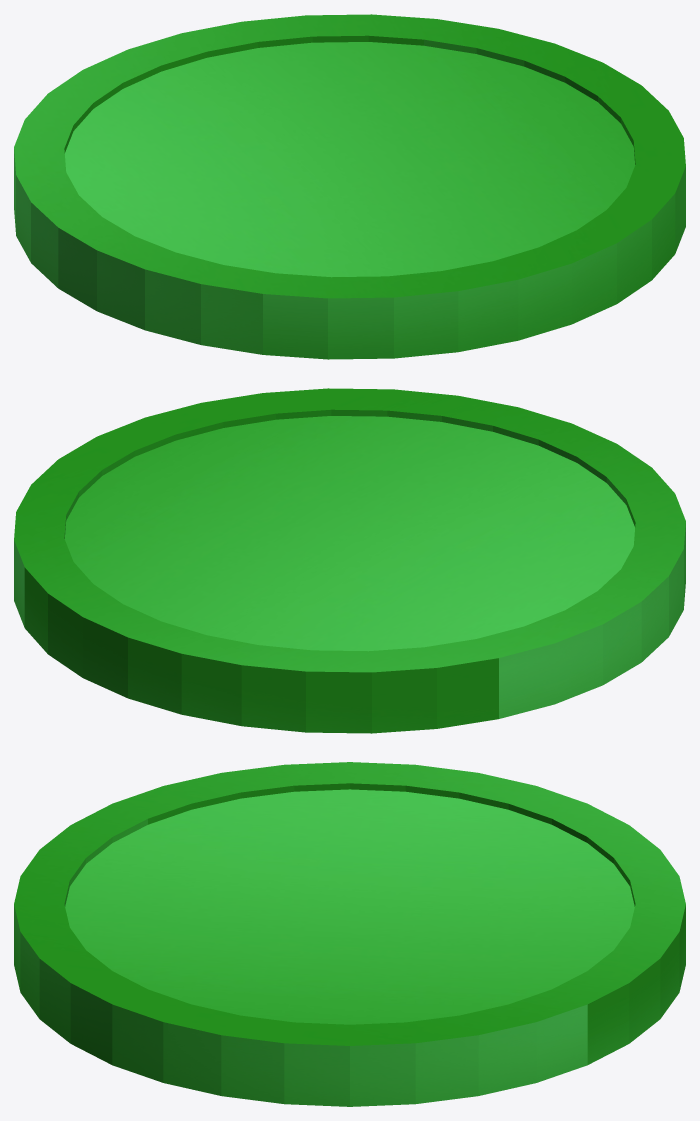
The model's file is round_puck.obj.
3 views of the same model, one above another, from view 1: azimuth 30°, elevation 25°; view 2: azimuth 150°, elevation 25°; view 3: azimuth 270°, elevation 25° (orthographic).
Parts seen in each view (by area): view 1: Cylinder.001; view 2: Cylinder.001; view 3: Cylinder.001.
Boxes of the visible parts, bbox=[...] form: Cylinder.001: bbox=[14, 14, 685, 359]; Cylinder.001: bbox=[14, 388, 685, 733]; Cylinder.001: bbox=[14, 762, 685, 1106].
Size of the model in its own units: 1 by 0.1 by 1.
Materials: 1 (1 with a texture image).
